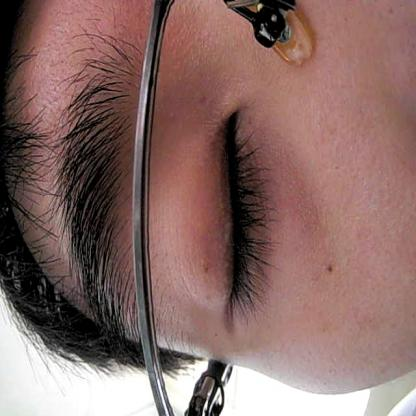Close: (189, 95, 289, 330)
